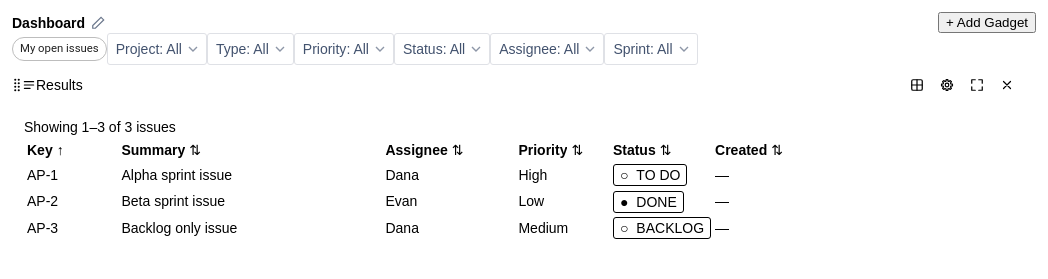
Test: JL-366 — selecting a sprint narrows the dashboard by sprintId › clearing the sprint filter restores all issues
expect the text "Showing 1–3 of 3 issues" is shown: met, box [24,119,176,135]
Click the button "Sprint: All": coordinates (651, 49) [604,33,698,65]
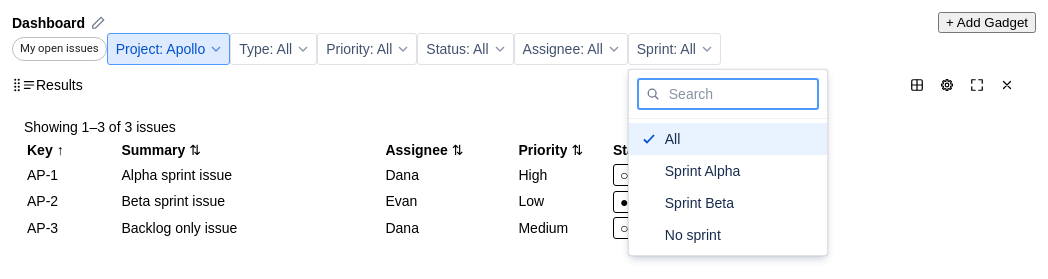
Click the option "Sprint Beta": coordinates (699, 203) [665,195,734,211]
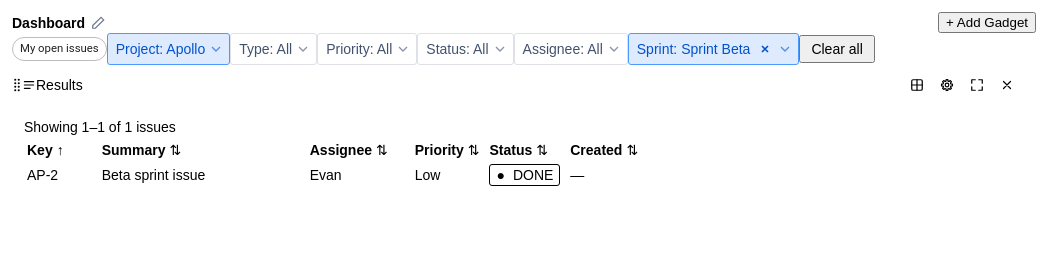
expect the text "Alpha sprint issue" is gone: met
Click the button named "Clear Sprint filter": coordinates (765, 49) [759,43,771,55]
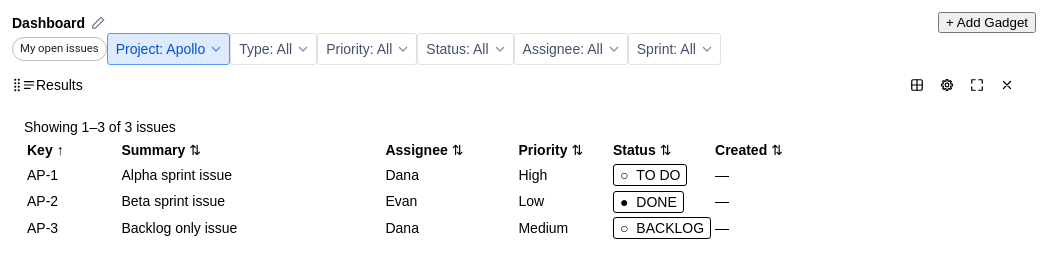
expect the text "Beta sprint issue" is shown: met, box [120,189,382,214]
expect the text "Alpha sprint issue" is shown: met, box [120,163,382,187]
expect the text "Backlog only issue" is shown: met, box [120,216,382,240]
